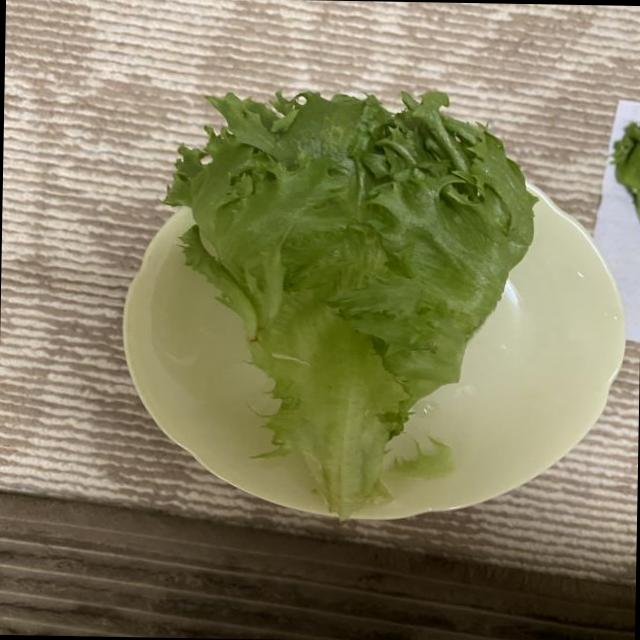Lettuce-Ready-to-Harvest: (166, 91, 536, 515)
